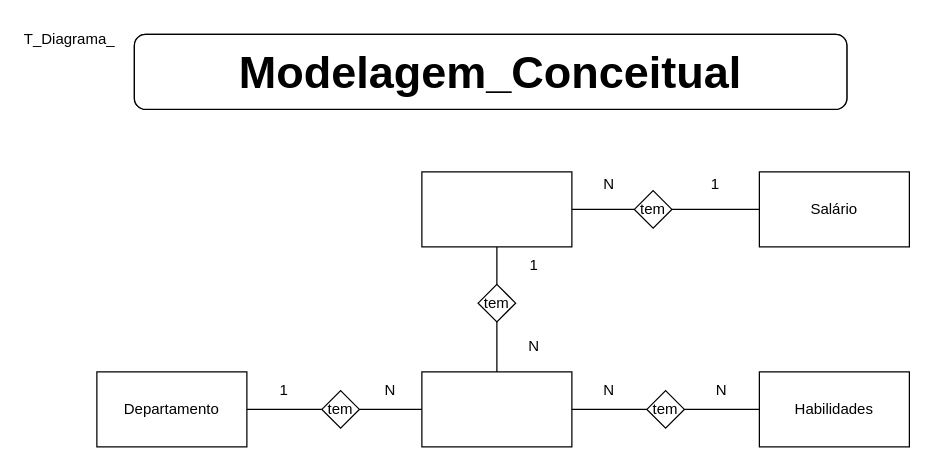
Image size: 931x469. Some labels were removed from this diagram. The centre of each missing label's shape, as x and y in pixels:
"Cargo" goes at point 496,209.
"Funcionário" goes at point 496,409.
